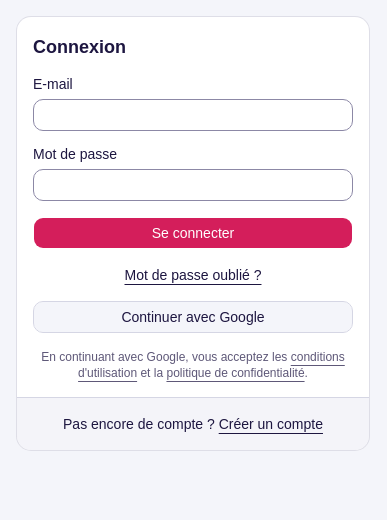
Test case: LoginPage › shows the backend message when the credentials are wrong
Type "alice@example.com" into the field labelled "E-mail".
click(193, 115); type("alice@example.com")  # box [33,99,353,131]
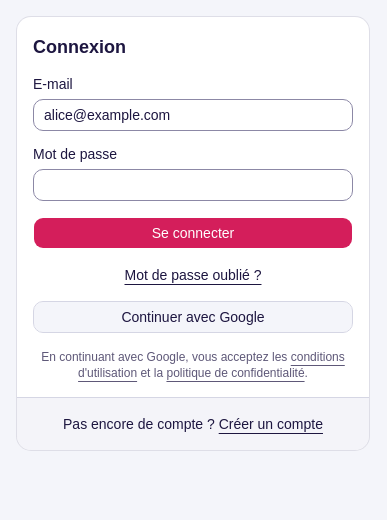
Type "wrong password" into the password field labelled "Mot de passe".
click(193, 185); type("wrong password")  # box [33,169,353,201]
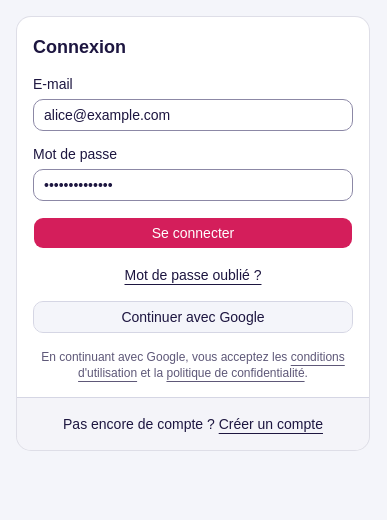
Click the button "Se connecter".
click(193, 233)  # box [33,217,353,249]
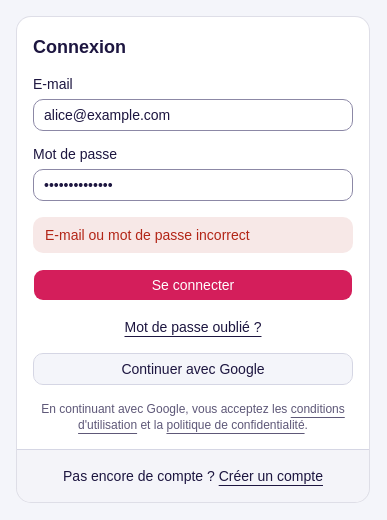
expect the heading "Connexion" is shown: met, box [33,37,126,57]
expect the message reads "E-mail ou mot de passe incorrect": met, box [45,227,250,243]
